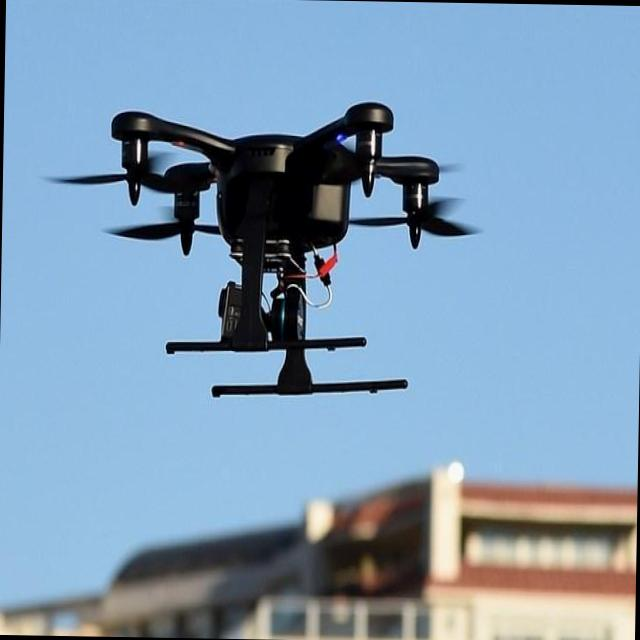drone: (100, 95, 457, 406)
